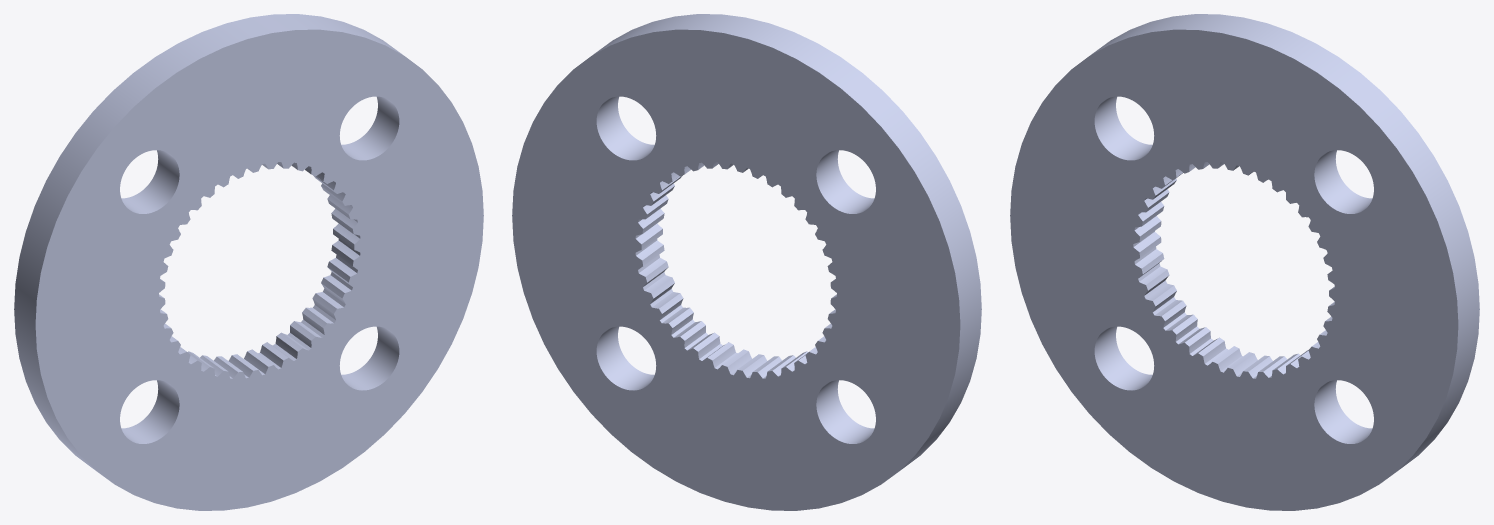
File: REV_21_2102_A02_1_REV_21_2102_P04_1_solid1.obj
3 renders of one model, left to right at view 1: azimuth 30°, elevation 25°; view 2: azimuth 150°, elevation 25°; view 3: azimuth 330°, elevation 25°, orthographic.
Visible parts, largest first — view 1: mesh22528, mesh22527, mesh22526, mesh22690, mesh22693, mesh22691, mesh22692; view 2: mesh22529, mesh22527, mesh22526, mesh22690, mesh22693, mesh22691, mesh22692; view 3: mesh22528, mesh22527, mesh22526, mesh22691, mesh22692, mesh22690, mesh22693.
Boxes of the visible parts, x1,y1,x2,y2 form: mesh22528: (35, 29, 483, 510); mesh22527: (14, 14, 403, 324); mesh22526: (14, 309, 106, 478); mesh22690: (121, 159, 179, 213); mesh22693: (121, 389, 179, 443); mesh22691: (341, 106, 399, 160); mesh22692: (341, 336, 399, 390); mesh22529: (512, 29, 960, 510); mesh22527: (592, 14, 981, 324); mesh22526: (889, 309, 981, 478); mesh22690: (816, 159, 874, 213); mesh22693: (816, 389, 874, 443); mesh22691: (596, 106, 654, 160); mesh22692: (596, 336, 654, 390); mesh22528: (1010, 29, 1458, 510); mesh22527: (1090, 14, 1479, 324); mesh22526: (1387, 309, 1479, 478); mesh22691: (1314, 159, 1372, 213); mesh22692: (1314, 389, 1372, 443); mesh22690: (1094, 106, 1152, 160); mesh22693: (1094, 336, 1152, 390).
Size of the model in its own units: 0.045 by 0.0449 by 0.00372.
